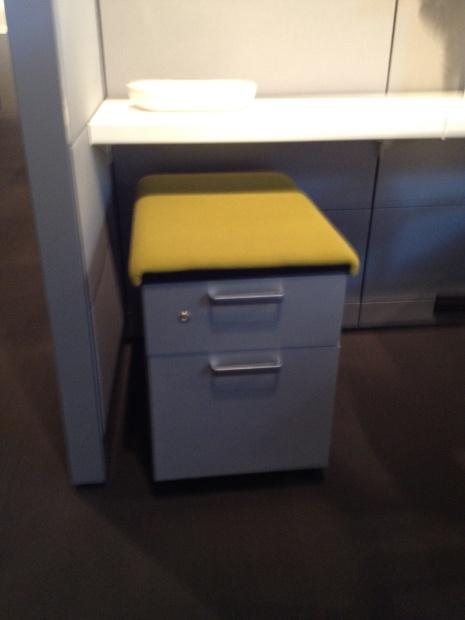Filing Cabinet: (137, 255, 350, 485)
